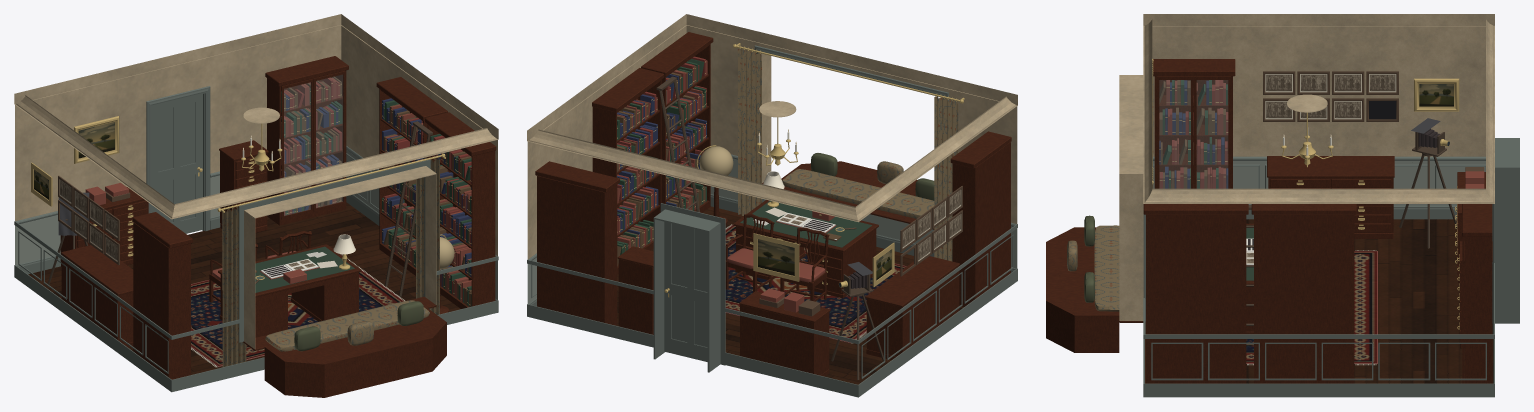
File: room_archive.gltf
3 renders of one model, left to right at view 1: azimuth 30°, elevation 25°; view 2: azimuth 150°, elevation 25°; view 3: azimuth 270°, elevation 25°, orthographic. The views are drawn at different scales.
Visible parts, largest first — view 1: 照片档案室·墙面、地面、线脚与窗座, 照片档案室·东北玻璃书柜-col, 照片档案室·东墙书柜1-col, 照片档案室·西南玻璃书柜-col, 照片档案室·大书桌-col, 照片档案室·东墙书柜2-col, 照片档案室·门, 照片档案室·凸窗窗帘, 照片档案室·平柜（底片与相片）-col, 照片档案室·地毯, 照片档案室·窗座软垫与靠枕, 照片档案室·窄抽屉柜-col (+11 smaller); view 2: 照片档案室·墙面、地面、线脚与窗座, 照片档案室·东北玻璃书柜-col, 照片档案室·东墙书柜2-col, 照片档案室·西南玻璃书柜-col, 照片档案室·东墙书柜1-col, 照片档案室·凸窗窗帘, 照片档案室·平柜（底片与相片）-col, 照片档案室·门, 照片档案室·大书桌-col, 照片档案室·底片柜-col, 照片档案室·窗座软垫与靠枕, 照片档案室·地毯 (+11 smaller); view 3: 照片档案室·墙面、地面、线脚与窗座, 照片档案室·东墙书柜1-col, 照片档案室·东墙书柜2-col, 照片档案室·西南玻璃书柜-col, 照片档案室·平柜（底片与相片）-col, 照片档案室·东北玻璃书柜-col, 照片档案室·窗座软垫与靠枕, 照片档案室·地毯, 照片档案室·三脚架相机（搭着黑布）, 照片档案室·西墙北段风景画, 照片档案室·合影1919, 照片档案室·合影1920 (+10 smaller).
Boxes of the visible parts, left/top/right/bottom form: 照片档案室·墙面、地面、线脚与窗座: left=14, top=14, right=498, bottom=397; 照片档案室·东北玻璃书柜-col: left=265, top=56, right=348, bottom=225; 照片档案室·东墙书柜1-col: left=425, top=112, right=496, bottom=308; 照片档案室·西南玻璃书柜-col: left=132, top=212, right=192, bottom=379; 照片档案室·大书桌-col: left=218, top=244, right=361, bottom=337; 照片档案室·东墙书柜2-col: left=376, top=77, right=447, bottom=275; 照片档案室·门: left=152, top=94, right=202, bottom=233; 照片档案室·凸窗窗帘: left=217, top=153, right=445, bottom=367; 照片档案室·平柜（底片与相片）-col: left=61, top=245, right=133, bottom=347; 照片档案室·地毯: left=191, top=254, right=404, bottom=367; 照片档案室·窗座软垫与靠枕: left=265, top=300, right=429, bottom=351; 照片档案室·窄抽屉柜-col: left=219, top=140, right=268, bottom=232; 照片档案室·墙面、地面、线脚与窗座: left=527, top=14, right=1017, bottom=397; 照片档案室·东北玻璃书柜-col: left=535, top=161, right=619, bottom=325; 照片档案室·东墙书柜2-col: left=592, top=68, right=664, bottom=274; 照片档案室·西南玻璃书柜-col: left=950, top=131, right=1011, bottom=306; 照片档案室·东墙书柜1-col: left=641, top=32, right=713, bottom=212; 照片档案室·凸窗窗帘: left=733, top=43, right=964, bottom=261; 照片档案室·平柜（底片与相片）-col: left=865, top=256, right=959, bottom=360; 照片档案室·门: left=664, top=221, right=707, bottom=361; 照片档案室·大书桌-col: left=733, top=200, right=878, bottom=298; 照片档案室·底片柜-col: left=739, top=291, right=830, bottom=376; 照片档案室·窗座软垫与靠枕: left=782, top=153, right=934, bottom=218; 照片档案室·地毯: left=725, top=224, right=906, bottom=343; 照片档案室·墙面、地面、线脚与窗座: left=1046, top=14, right=1519, bottom=397; 照片档案室·东墙书柜1-col: left=1143, top=204, right=1248, bottom=383; 照片档案室·东墙书柜2-col: left=1251, top=204, right=1356, bottom=383; 照片档案室·西南玻璃书柜-col: left=1152, top=59, right=1235, bottom=188; 照片档案室·平柜（底片与相片）-col: left=1267, top=156, right=1394, bottom=238; 照片档案室·东北玻璃书柜-col: left=1462, top=204, right=1492, bottom=383; 照片档案室·窗座软垫与靠枕: left=1067, top=215, right=1119, bottom=311; 照片档案室·地毯: left=1246, top=250, right=1377, bottom=365; 照片档案室·三脚架相机（搭着黑布）: left=1399, top=118, right=1456, bottom=248; 照片档案室·西墙北段风景画: left=1414, top=78, right=1459, bottom=111; 照片档案室·合影1919: left=1263, top=71, right=1295, bottom=94; 照片档案室·合影1920: left=1297, top=71, right=1329, bottom=94.
Bounding box in the file's own units: 5.39 × 2.9 × 6.05.
Materials: 44 (16 with a texture image).
